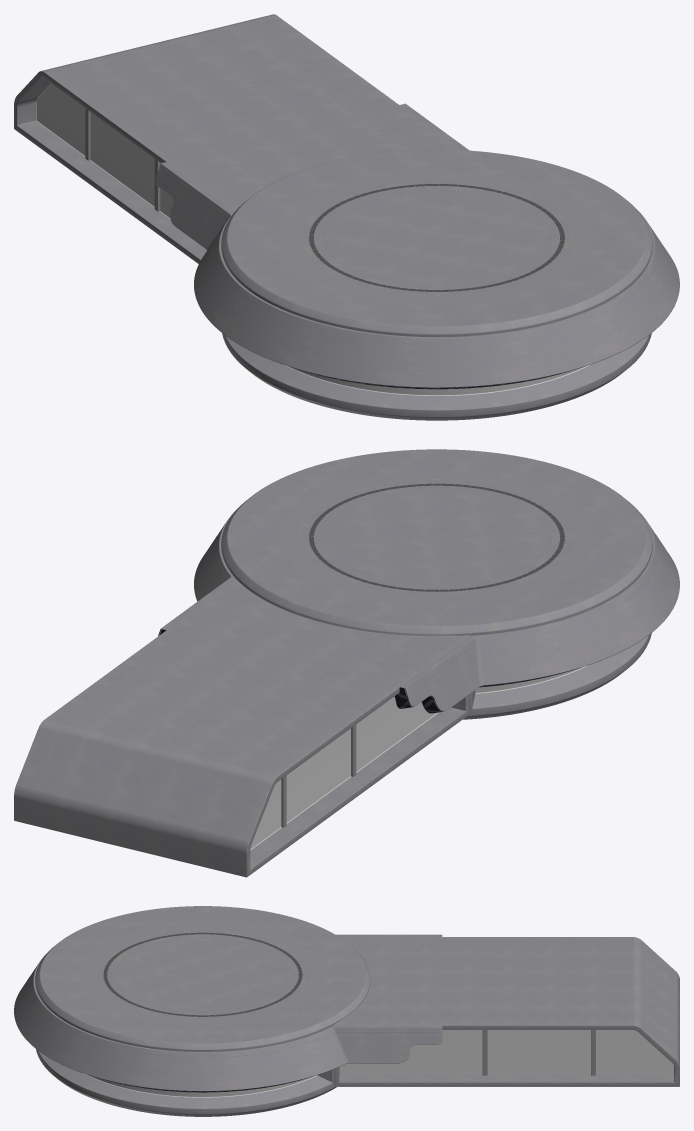
The model's file is SM_Building_02_a.fbx.
3 views of the same model, one above another, from view 1: azimuth 30°, elevation 25°; view 2: azimuth 150°, elevation 25°; view 3: azimuth 270°, elevation 25° (orthographic). The views are drawn at different scales.
Visible parts, largest first — view 1: SM_Building_02_a_LOD0; view 2: SM_Building_02_a_LOD0; view 3: SM_Building_02_a_LOD0.
Boxes of the visible parts, x1=… form: SM_Building_02_a_LOD0: x1=14, y1=14, x2=679, y2=420; SM_Building_02_a_LOD0: x1=14, y1=449, x2=679, y2=877; SM_Building_02_a_LOD0: x1=14, y1=906, x2=679, y2=1116.
Size of the model in its own units: 3606 by 6353 by 775.
